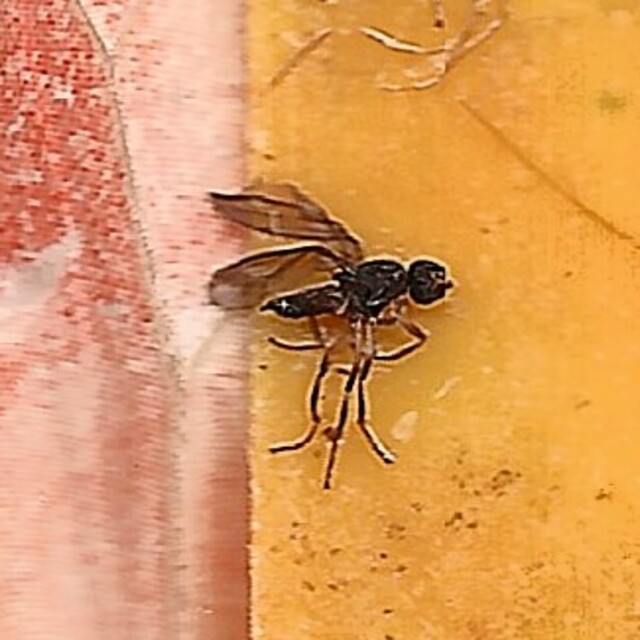Brachycera: (197, 170, 443, 470)
